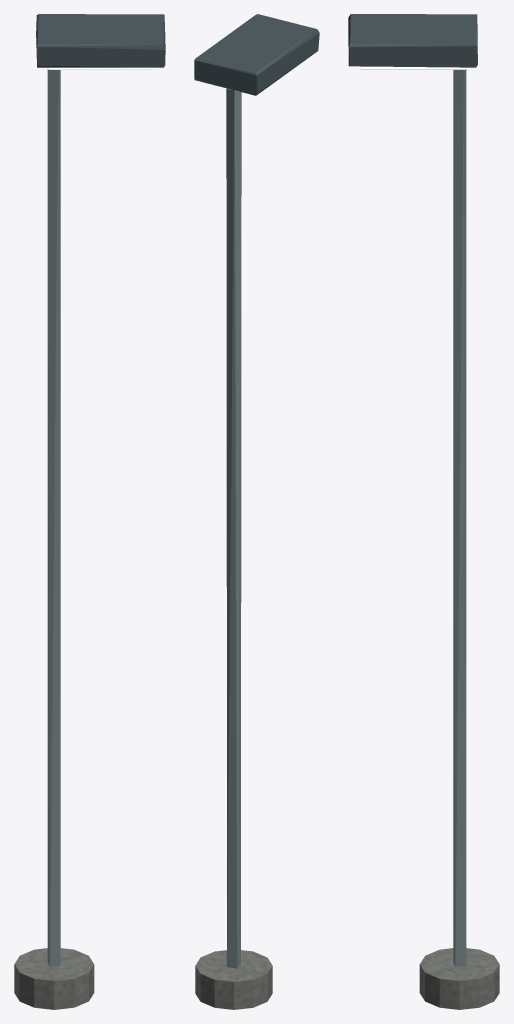
The model's file is ApronLight_8m_LOD1.glb.
3 views of the same model, side by side, from view 1: azimuth 90°, elevation 25°; view 2: azimuth 150°, elevation 25°; view 3: azimuth 270°, elevation 25° (orthographic). The views are drawn at different scales.
Visible parts, largest first — view 1: ApronLight_8m_export; view 2: ApronLight_8m_export; view 3: ApronLight_8m_export.
Boxes of the visible parts, x1,y1,x2,y2 form: ApronLight_8m_export: (14, 14, 165, 1009); ApronLight_8m_export: (194, 14, 319, 1009); ApronLight_8m_export: (348, 14, 499, 1009).
Size of the model in its own units: 0.6 by 8 by 1.14.
Materials: 4 (1 with a texture image).
